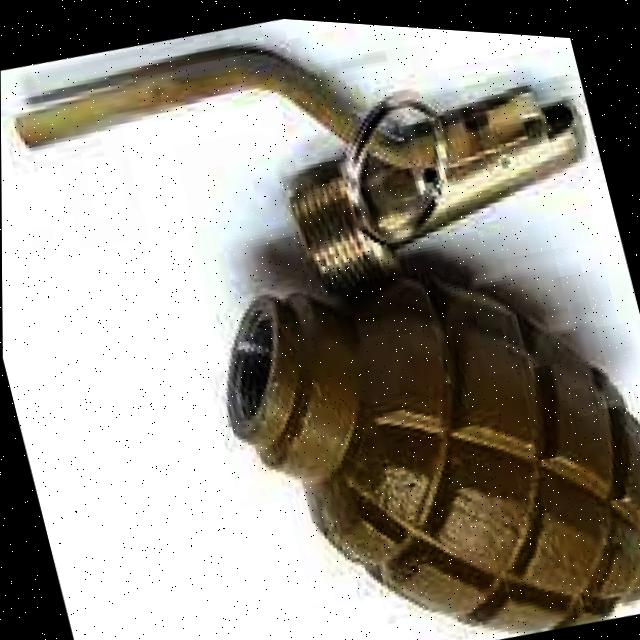grenade: (197, 200, 640, 640)
